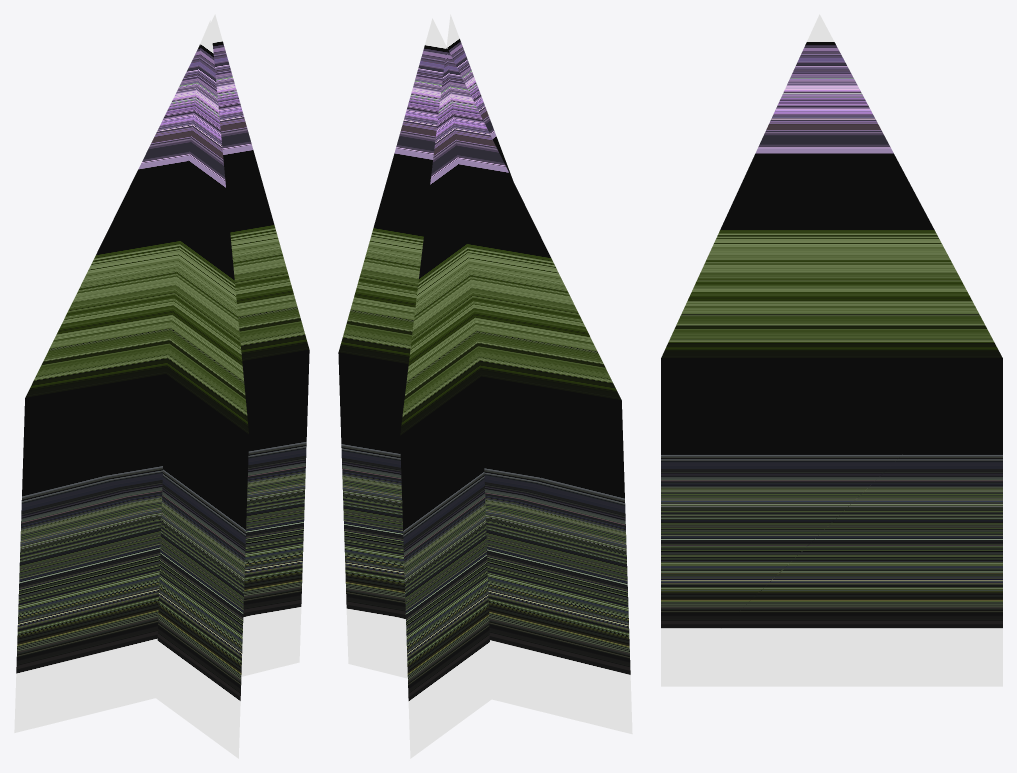
The model's file is SM_FOL_Flower_Tall_02_A.glb.
The picture shows the model from 3 angles, left to right: view 1: azimuth 30°, elevation 25°; view 2: azimuth 150°, elevation 25°; view 3: azimuth 270°, elevation 25°; orthographic projection. The views are drawn at different scales.
Visible parts, largest first — view 1: SM_FOL_Flower_Tall_02_A; view 2: SM_FOL_Flower_Tall_02_A; view 3: SM_FOL_Flower_Tall_02_A.
Boxes of the visible parts, x1,y1,x2,y2 form: SM_FOL_Flower_Tall_02_A: (14,14,309,758); SM_FOL_Flower_Tall_02_A: (338,14,632,758); SM_FOL_Flower_Tall_02_A: (661,14,1002,686).
Bounding box in the file's own units: 0.3489 × 0.7589 × 0.3371.
Materials: 1 (1 with a texture image).
